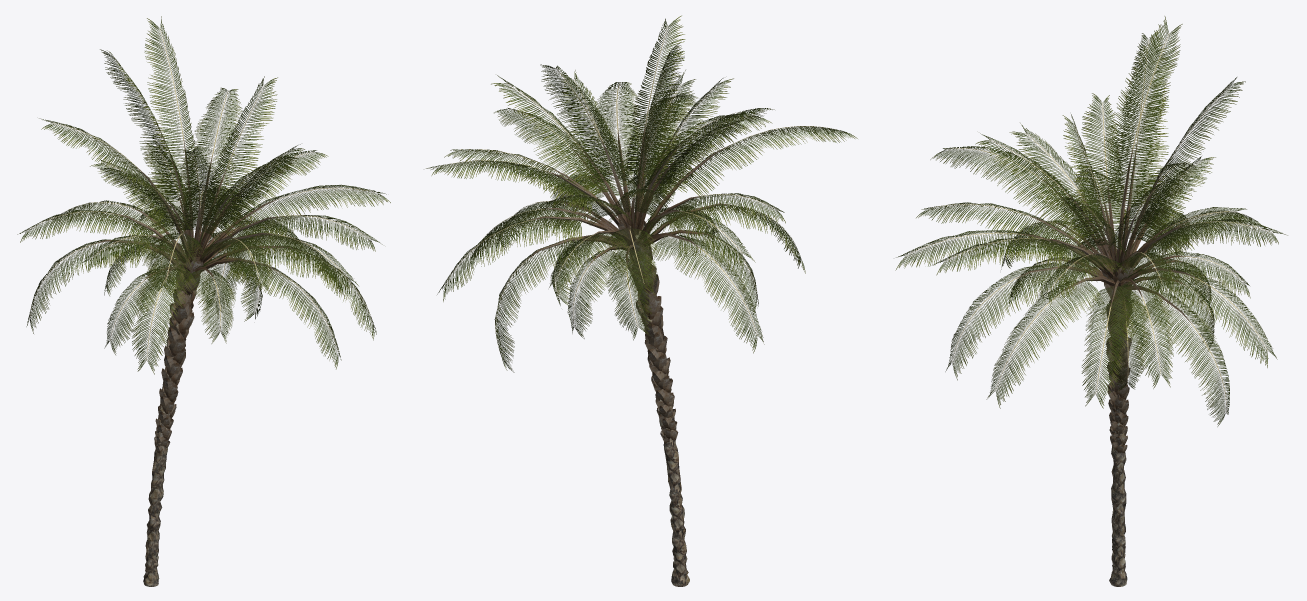
File: palme_dattel.glb
The picture shows the model from 3 angles, left to right: view 1: azimuth 30°, elevation 25°; view 2: azimuth 150°, elevation 25°; view 3: azimuth 270°, elevation 25°; orthographic projection. The views are drawn at different scales.
Visible parts, largest first — view 1: Tree_1, Tree_2, Tree_0; view 2: Tree_1, Tree_2, Tree_0; view 3: Tree_1, Tree_2, Tree_0.
Boxes of the visible parts, x1,y1,x2,y2 form: Tree_1: [17, 16, 390, 374]; Tree_2: [92, 137, 300, 453]; Tree_0: [143, 257, 192, 586]; Tree_1: [426, 15, 857, 372]; Tree_2: [524, 121, 734, 443]; Tree_0: [633, 230, 689, 586]; Tree_1: [895, 16, 1287, 426]; Tree_2: [1015, 144, 1196, 452]; Tree_0: [1109, 271, 1127, 586].
Bounding box in the file's own units: 3.53 × 5.7 × 3.74.
3 materials, 3 textured.
